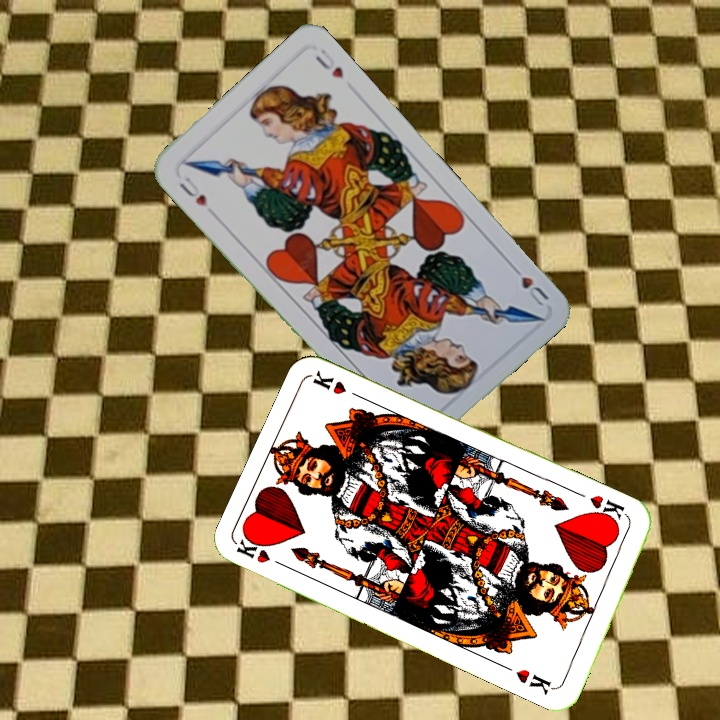HK: (233, 531, 291, 571), (585, 491, 633, 528)
HU: (506, 260, 552, 309), (175, 172, 211, 209)
